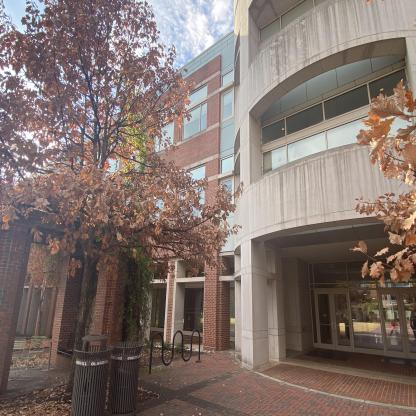EB-1: (27, 65, 415, 378)
